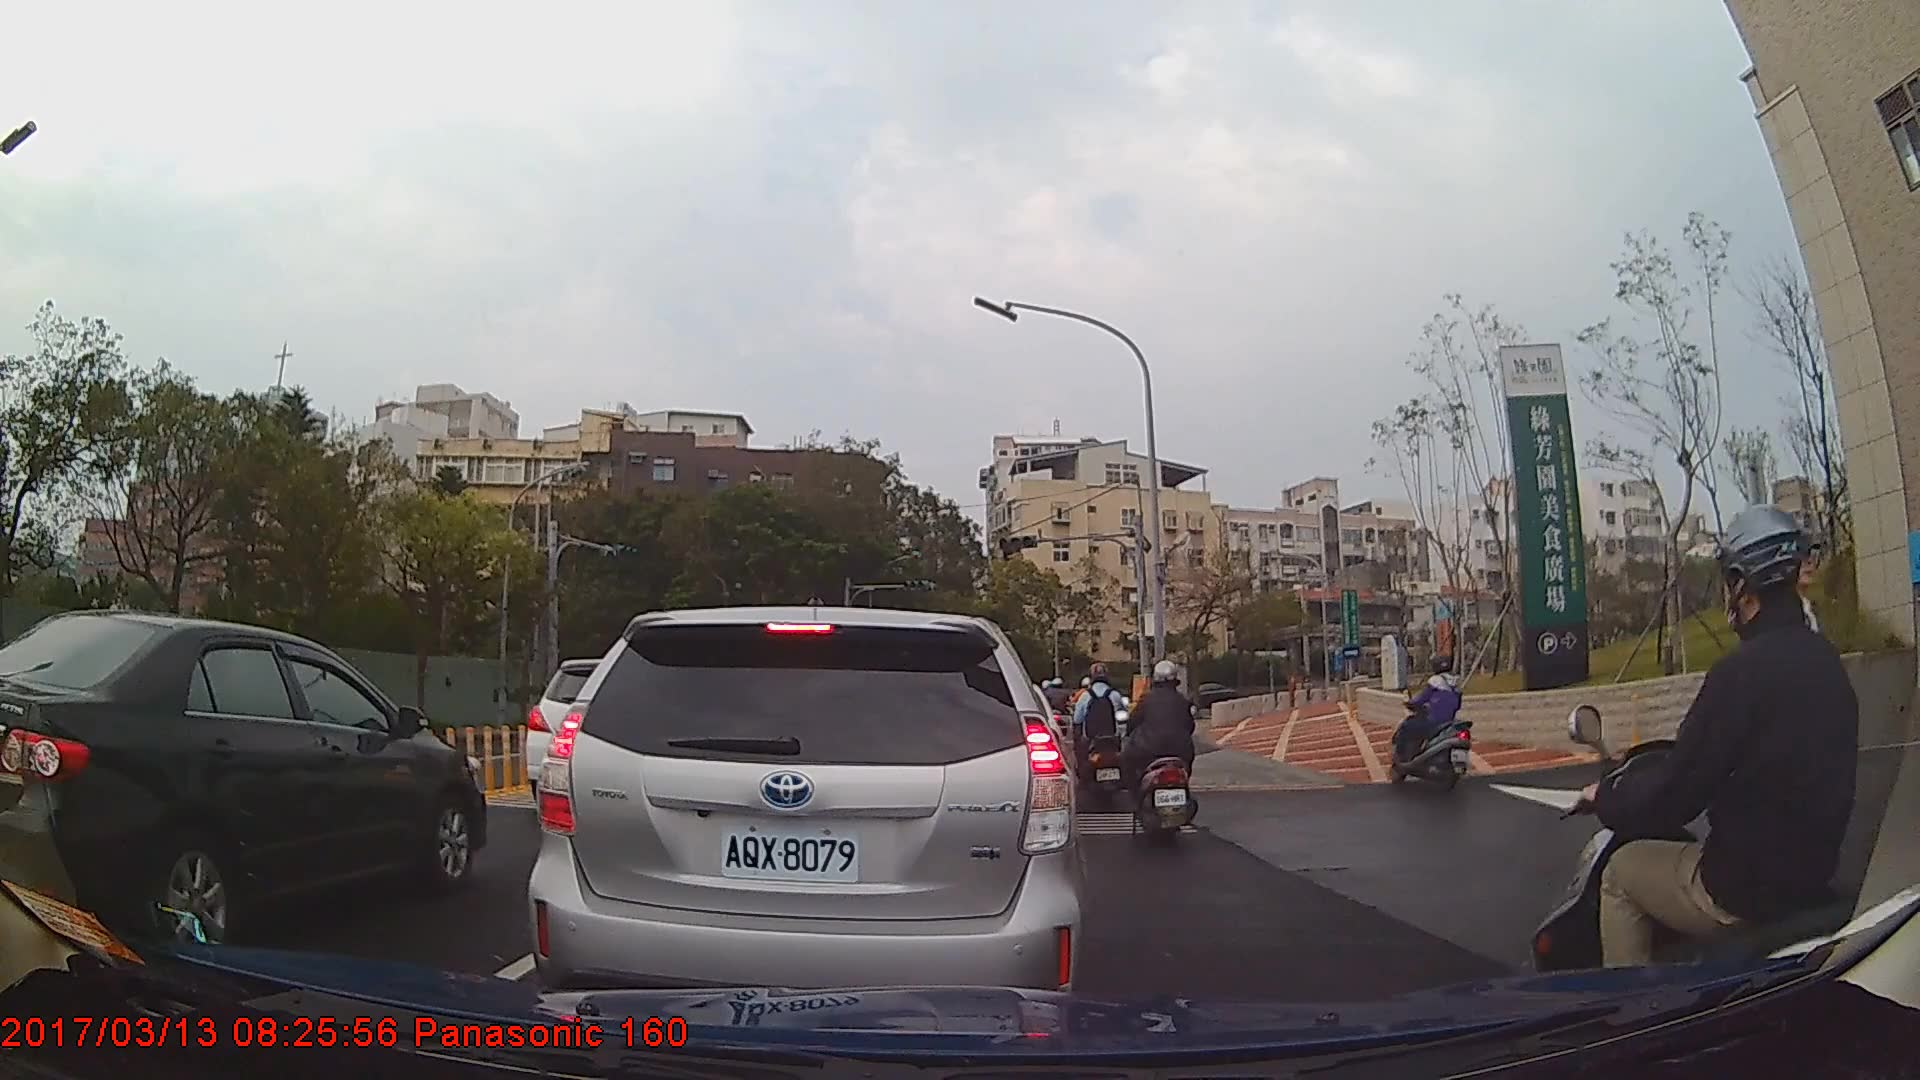rider: (1522, 503, 1920, 1080), (1121, 658, 1200, 842), (1387, 651, 1478, 793), (1071, 659, 1131, 811)
vehicle: (527, 602, 1080, 1032), (0, 609, 488, 956), (1169, 679, 1237, 713)
